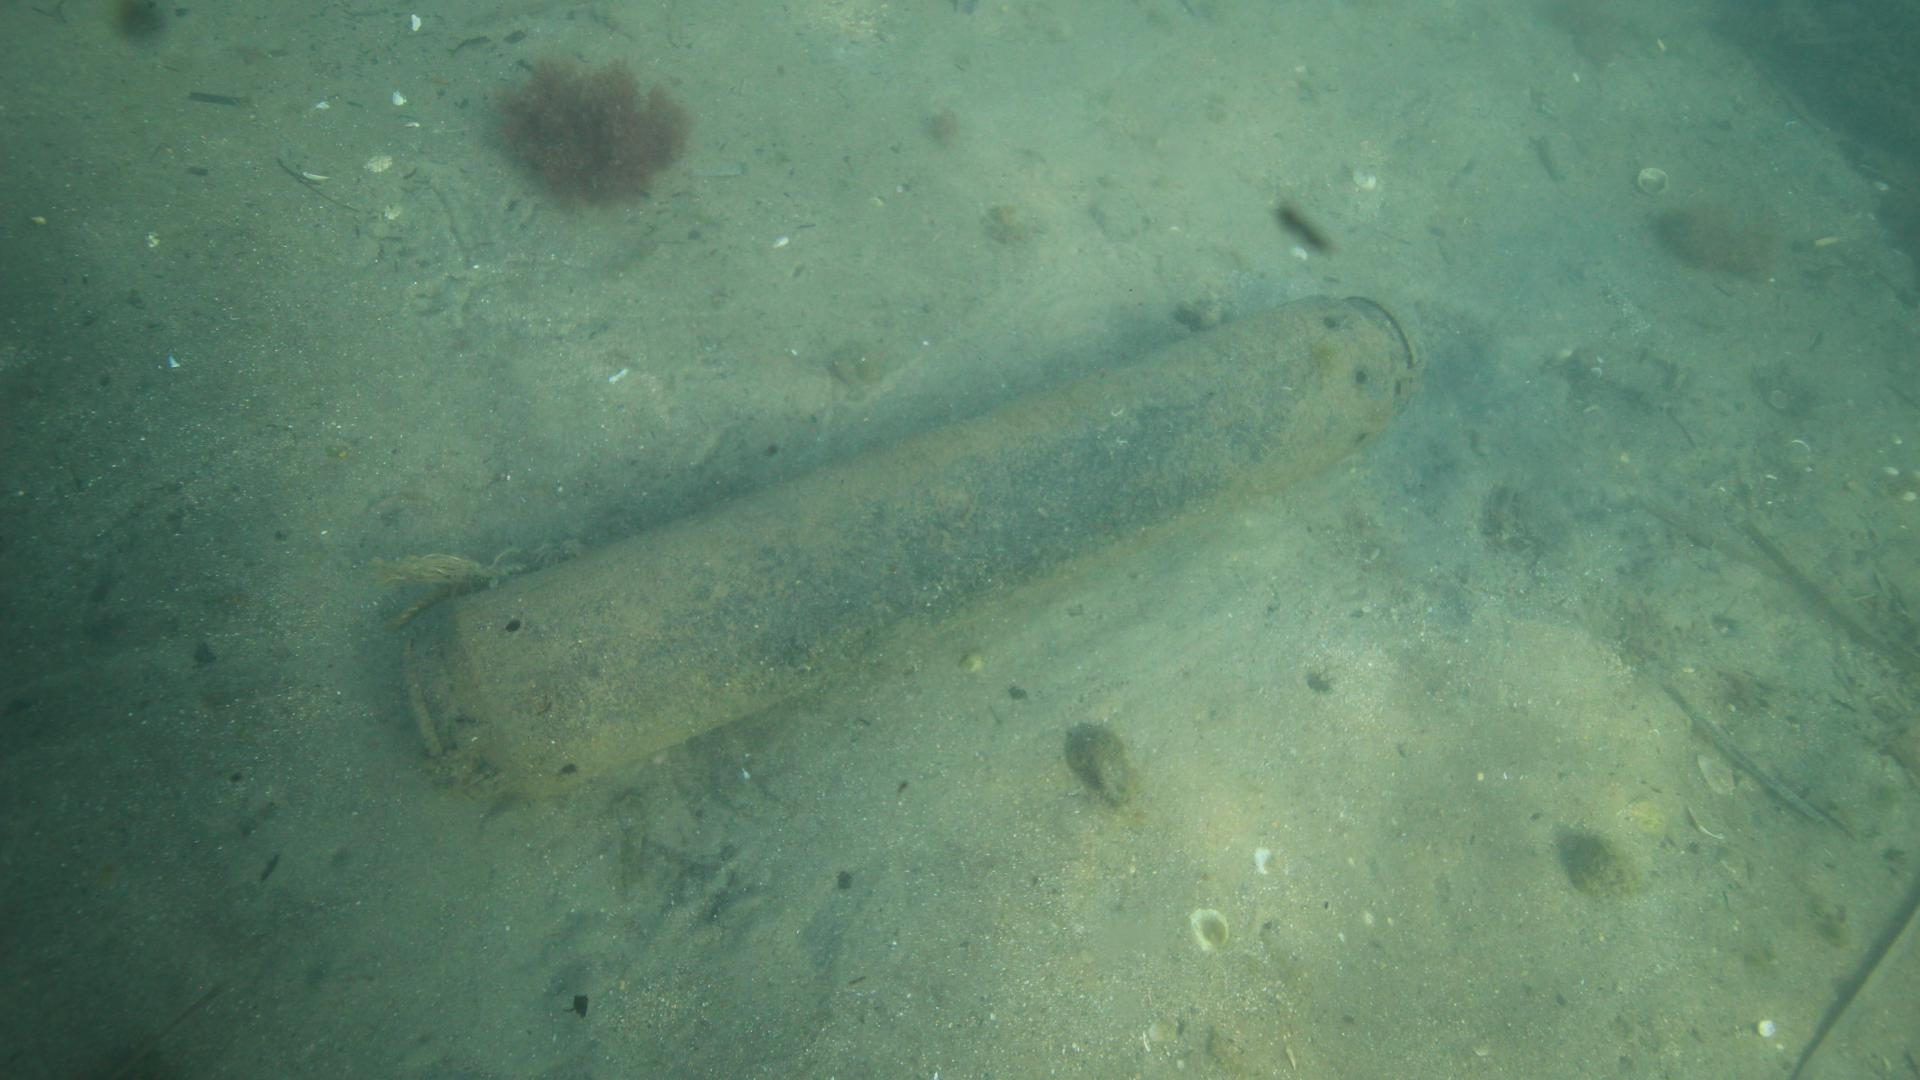eel fish trap: (398, 290, 1431, 804)
